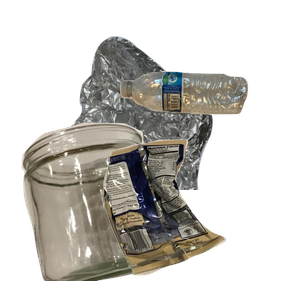glass: (19, 120, 184, 300)
metal: (68, 34, 300, 214)
plastic: (118, 69, 300, 176)
trash: (101, 137, 300, 300)
